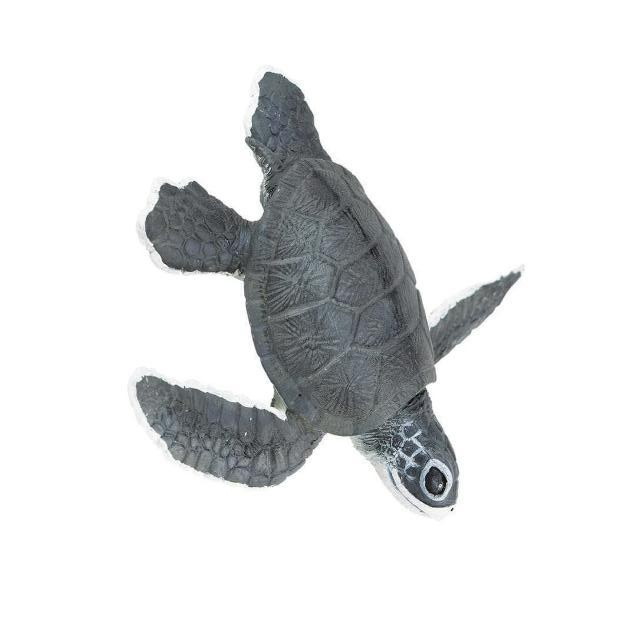turtle: (130, 71, 525, 520)
